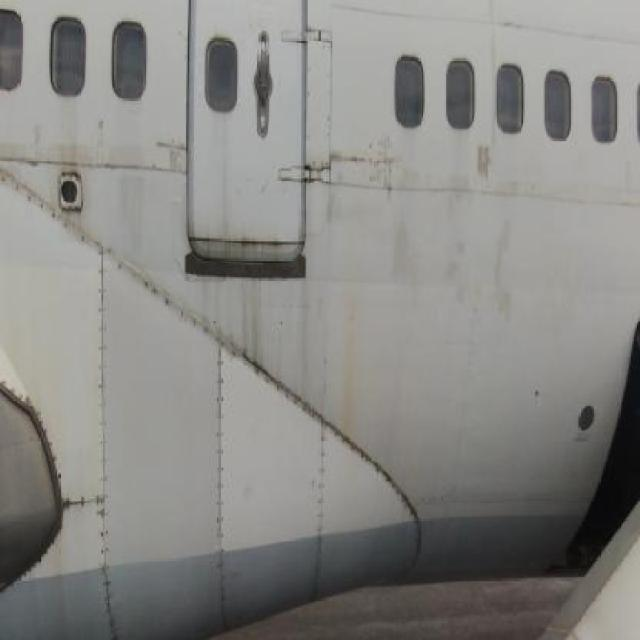Missing-Rivet: (59, 480, 107, 517)
Rust: (333, 193, 372, 455), (230, 268, 288, 383), (198, 223, 299, 259), (47, 107, 93, 165)
Scartch: (390, 173, 528, 322), (332, 133, 403, 189)
